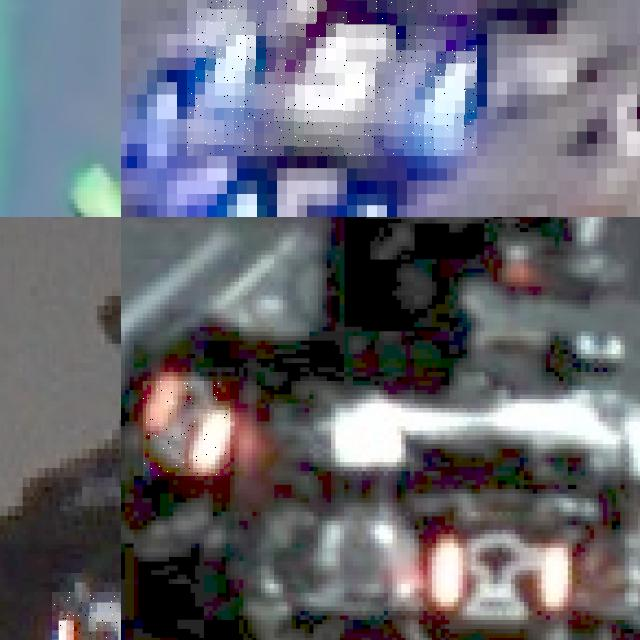B5: (187, 0, 477, 156), (172, 156, 402, 217)
Rs: (428, 539, 564, 620), (143, 381, 230, 476)
